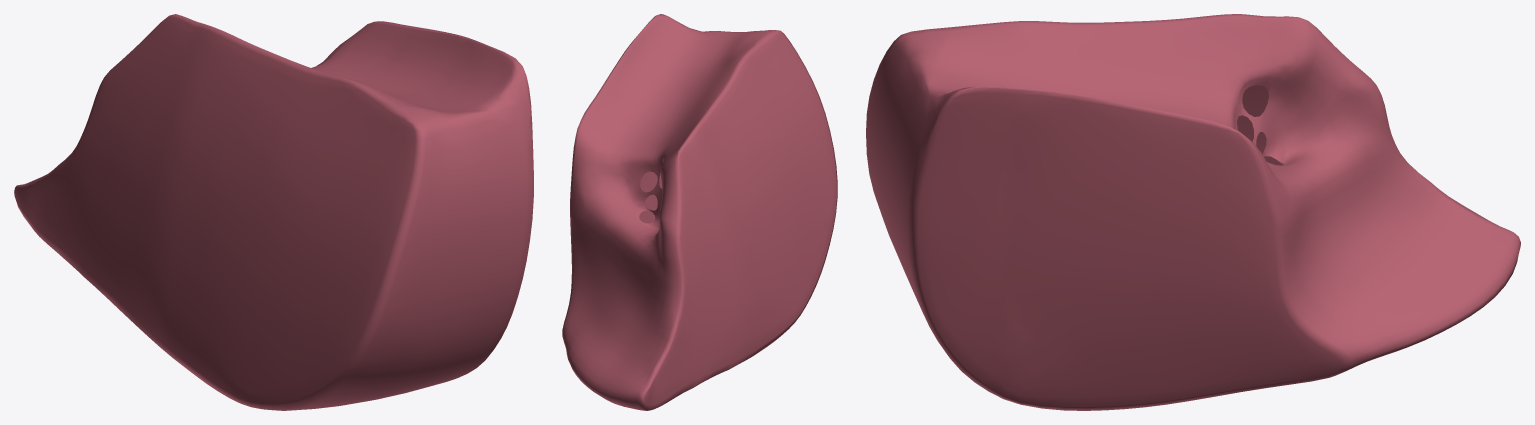
3 views of the same model, side by side, from view 1: azimuth 30°, elevation 25°; view 2: azimuth 150°, elevation 25°; view 3: azimuth 270°, elevation 25° (orthographic). The views are drawn at different scales.
Visible parts, largest first — view 1: 肝左内叶（第4段）; view 2: 肝左内叶（第4段）; view 3: 肝左内叶（第4段）.
Part boxes in pixels (<box>): 肝左内叶（第4段）: <box>14,14,533,410</box>; 肝左内叶（第4段）: <box>562,14,837,410</box>; 肝左内叶（第4段）: <box>866,14,1520,410</box>.
Bounding box in the file's own units: 0.084 × 0.1097 × 0.1854.
